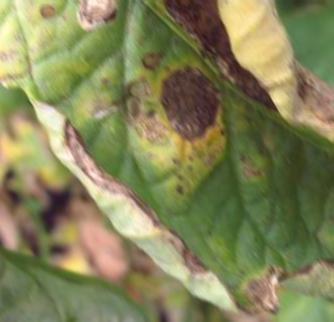Tomato Early blight leaf: (0, 0, 334, 297)
